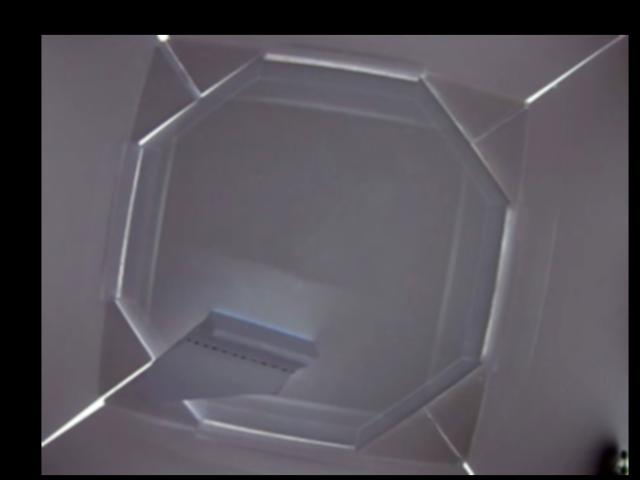China: (103, 307, 314, 405)
